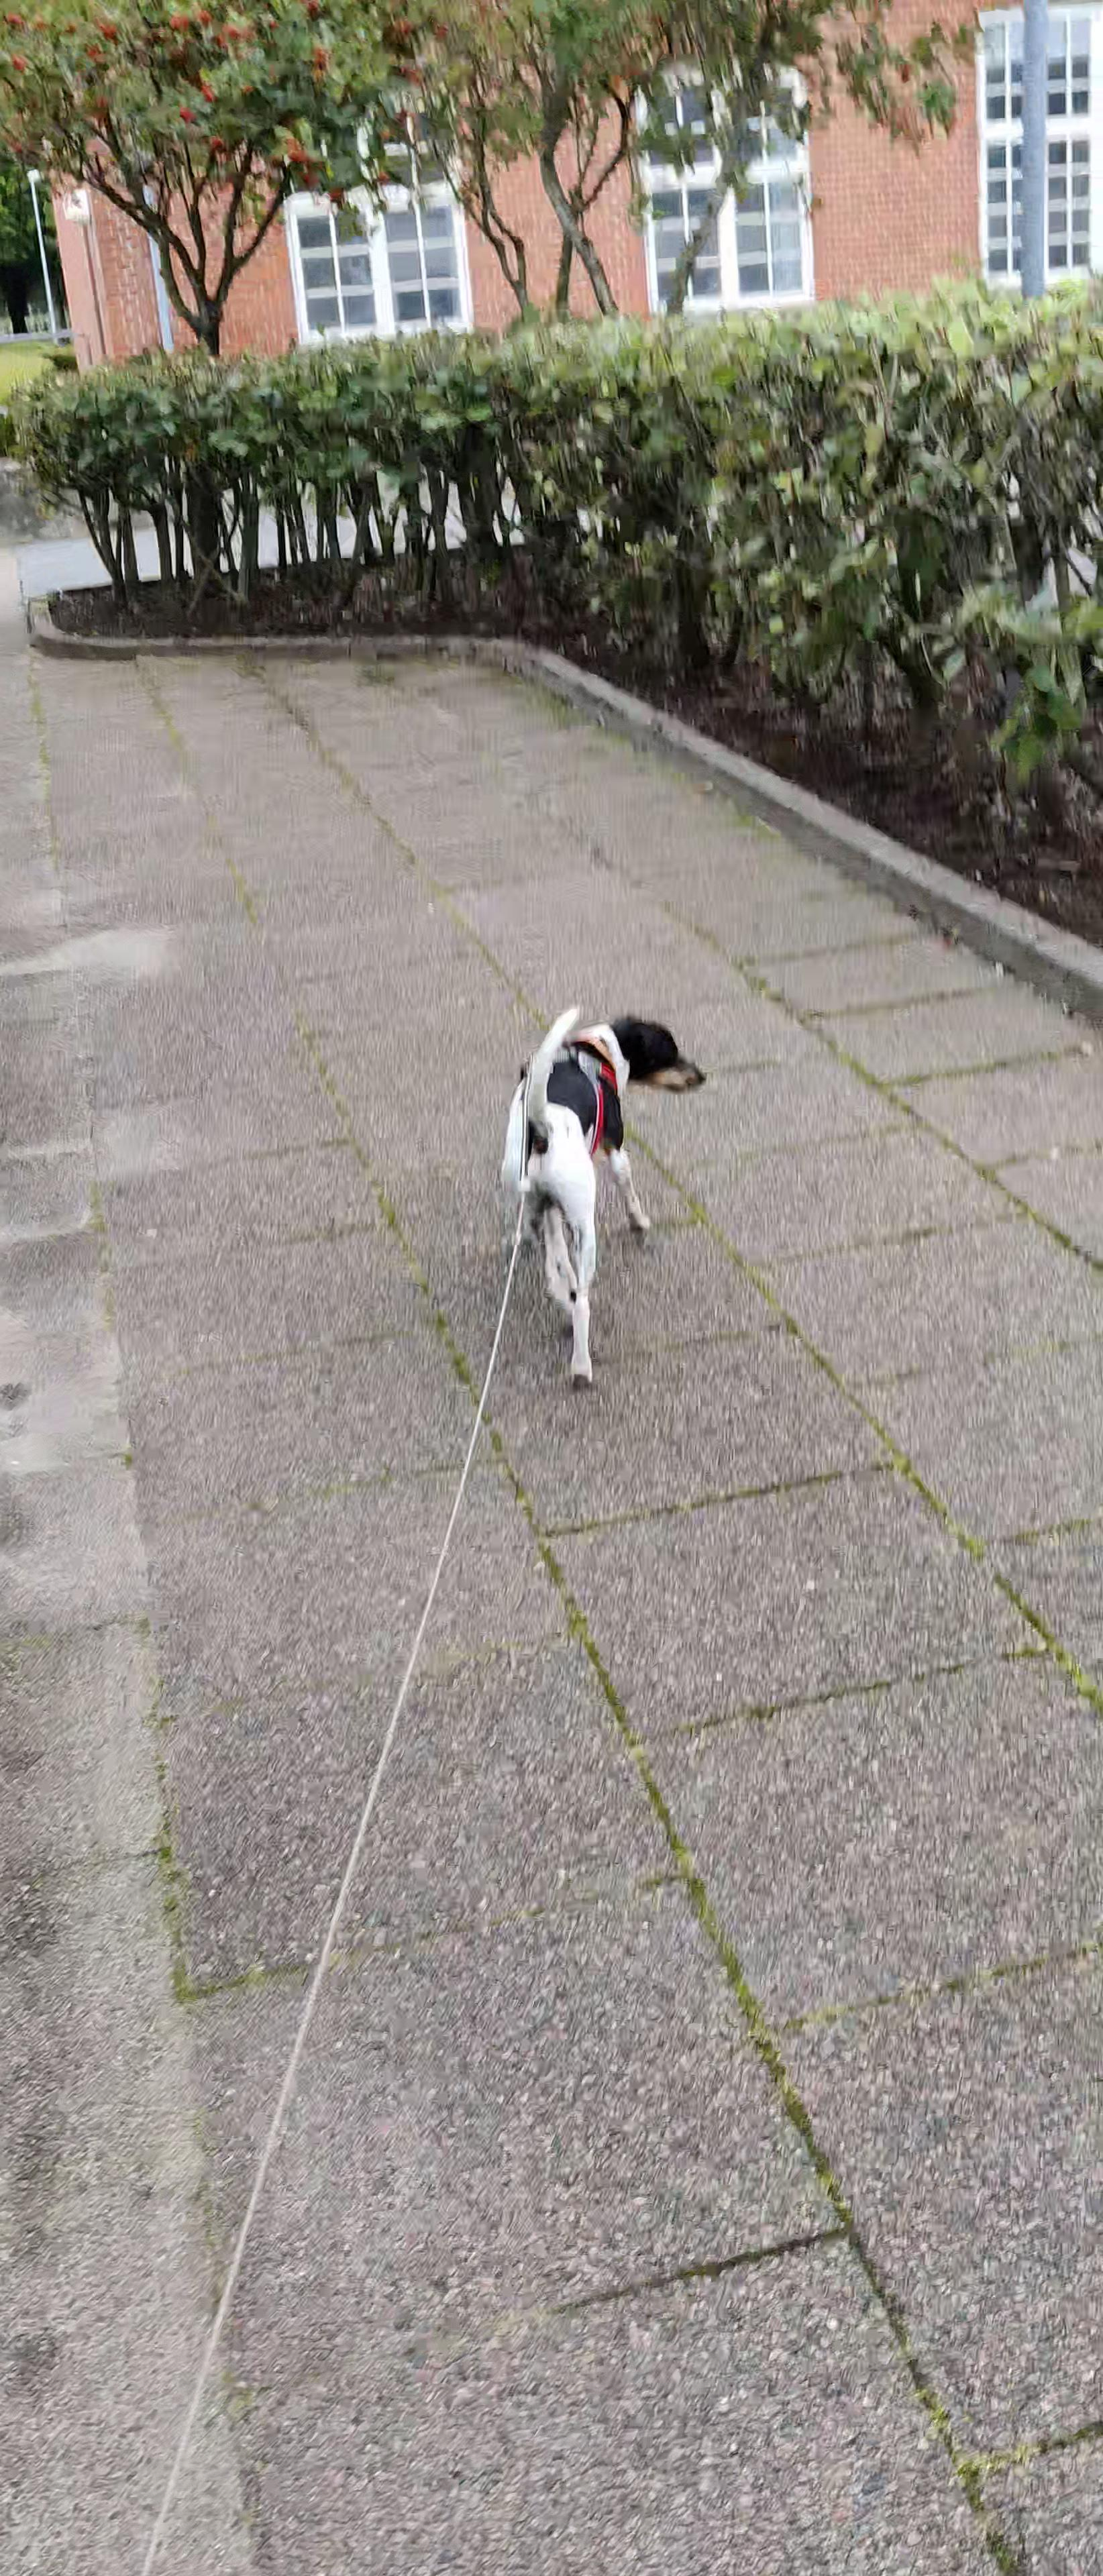Dog: (490, 1000, 710, 1393)
